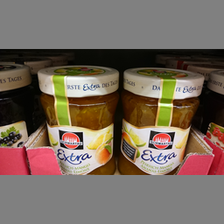jam: (119, 68, 206, 176), (37, 64, 120, 175)
